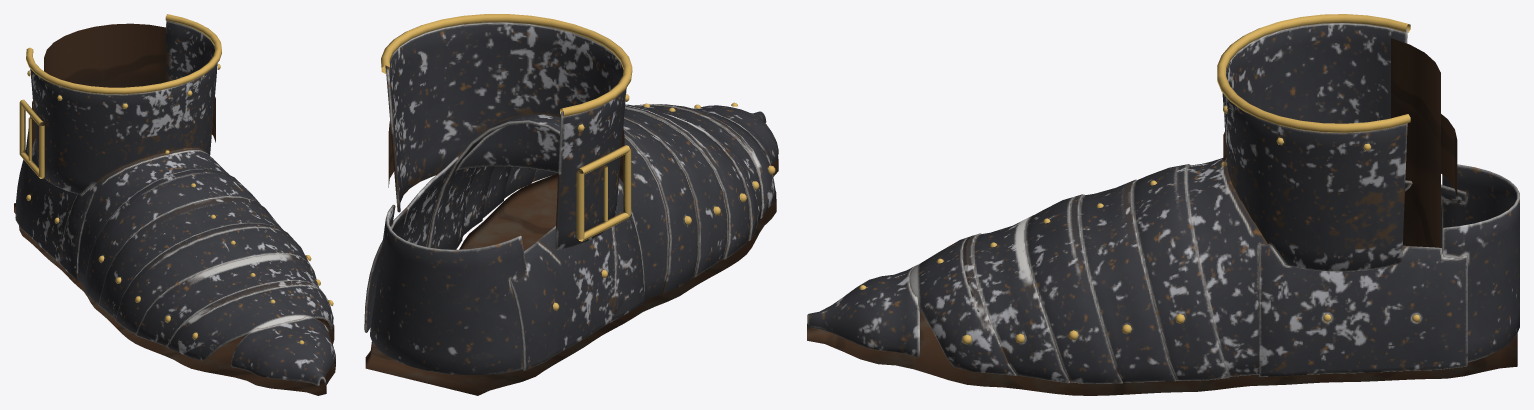
Rendered from SM_EagleSabatons_R.fbx.
3 renders of one model, left to right at view 1: azimuth 30°, elevation 25°; view 2: azimuth 150°, elevation 25°; view 3: azimuth 270°, elevation 25°, orthographic. The views are drawn at different scales.
Parts seen in each view (by area): view 1: SM_EagleSabatons_R; view 2: SM_EagleSabatons_R; view 3: SM_EagleSabatons_R.
Boxes of the visible parts, x1,y1,x2,y2 form: SM_EagleSabatons_R: [14, 14, 335, 395]; SM_EagleSabatons_R: [364, 14, 778, 395]; SM_EagleSabatons_R: [807, 14, 1519, 395].
Bounding box in the file's own units: 0.1108 × 0.117 × 0.2808.
